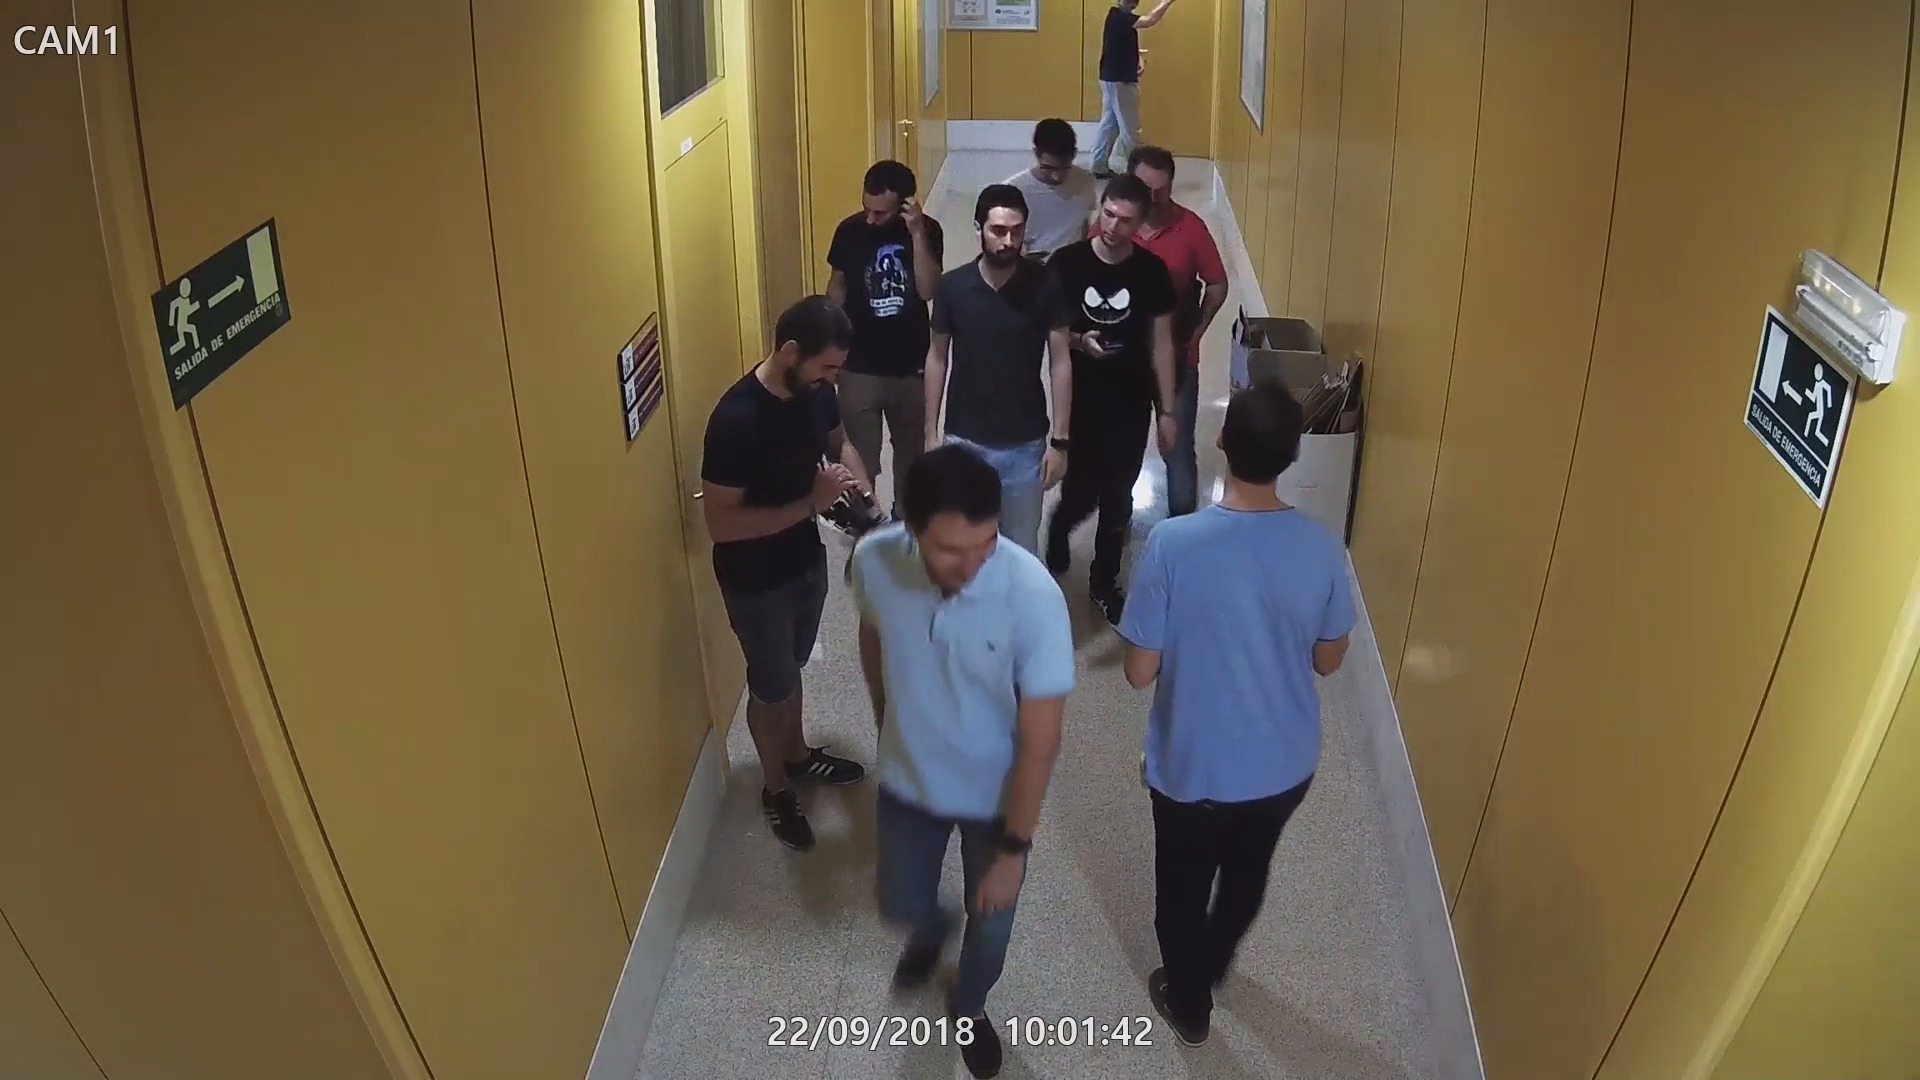Short_rifle: (810, 460, 887, 535), (1168, 269, 1203, 404)
